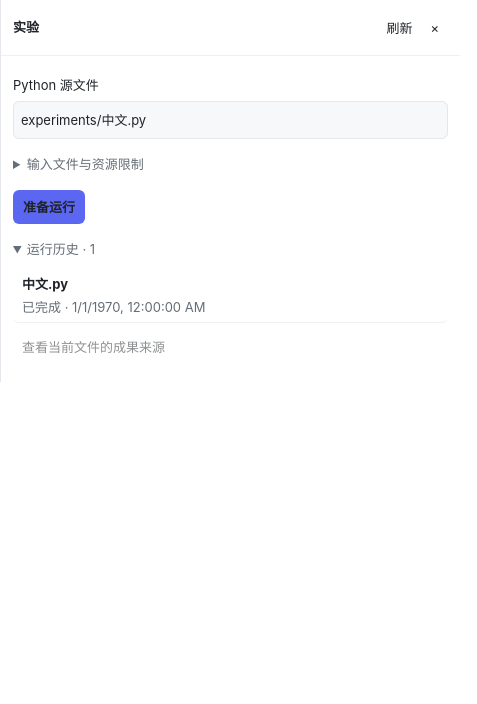
Test: experiment user workflow › renders hostile output as text and requires an independent import confirmation
Click the button with class "history-row" at (45, 284), box [13,268,448,322]
(page scrolled)
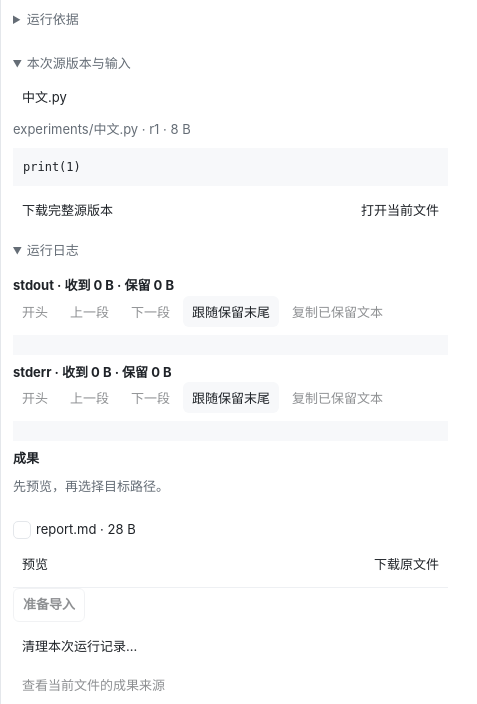
Click the button "预览" at (35, 563), box [13,548,57,578]
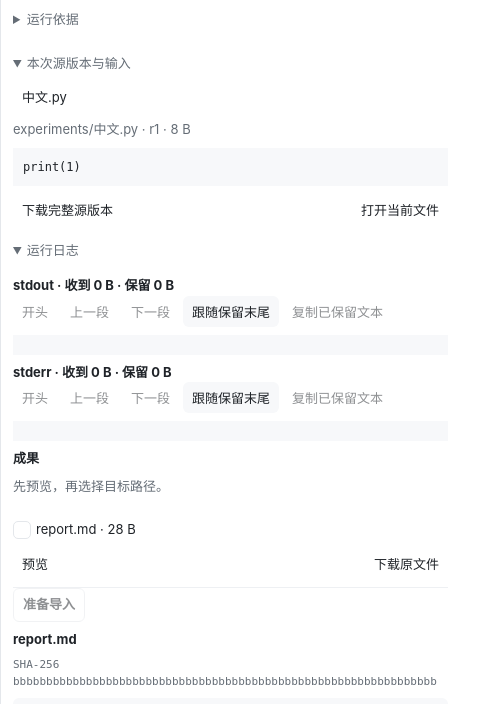
Click the checkbox labelled "report.md · 28 B" at (22, 530), box [13,521,31,539]
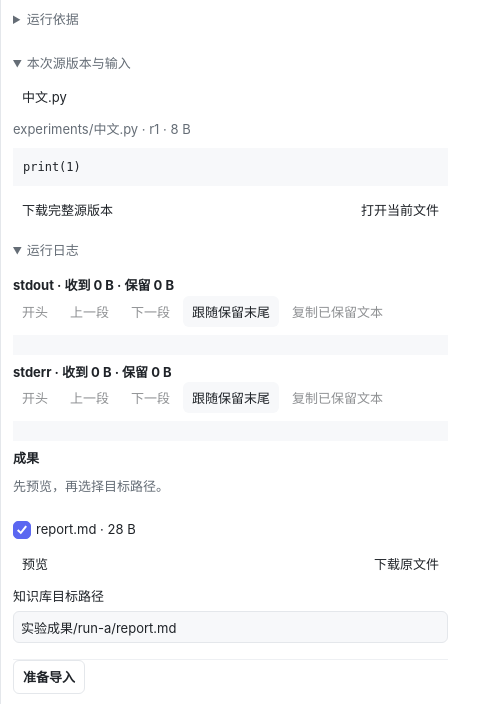
Click the button "准备导入" at (49, 677), box [13,660,85,694]
(page scrolled)
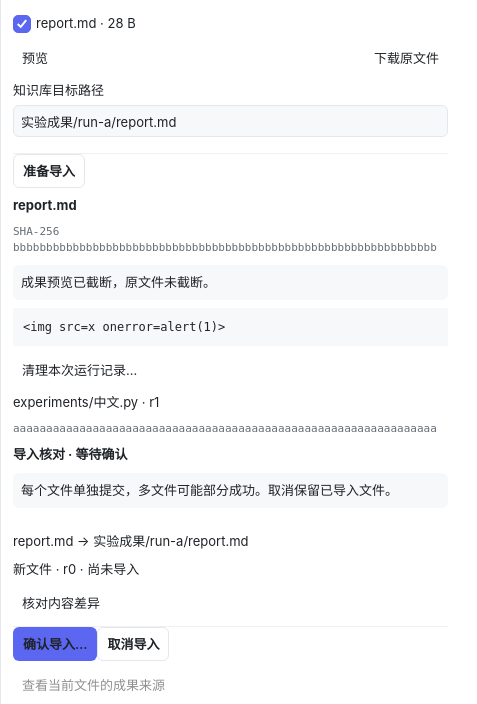
Expected: the button "确认导入…" is shown, [13,627,97,661]
